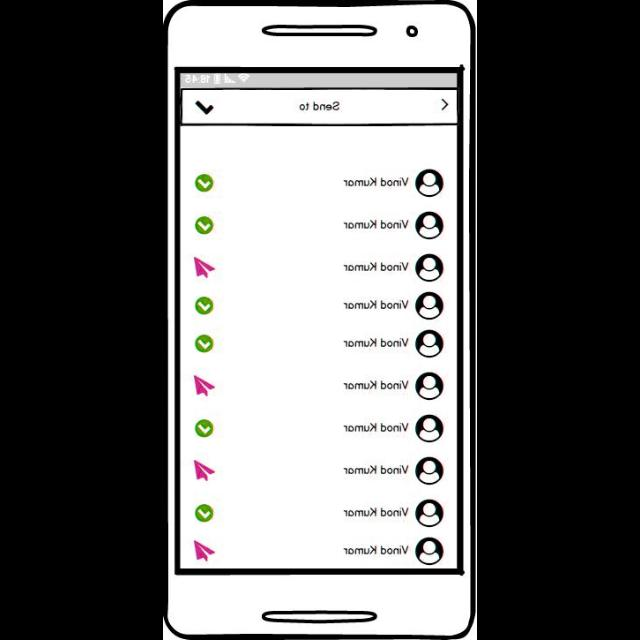icon: (414, 292, 444, 321), (414, 170, 444, 198), (414, 212, 444, 240), (414, 254, 444, 282), (414, 372, 444, 400), (414, 415, 444, 443), (414, 329, 442, 358), (413, 538, 442, 566), (414, 457, 442, 485), (414, 499, 442, 527), (194, 257, 216, 279), (193, 459, 215, 481), (193, 541, 214, 563), (194, 376, 216, 396), (194, 296, 213, 316), (195, 174, 213, 193), (194, 420, 213, 438), (195, 217, 213, 235), (195, 504, 213, 522), (195, 336, 213, 352), (194, 102, 213, 116), (440, 99, 448, 111)
text: (342, 220, 408, 230), (342, 262, 408, 272), (343, 300, 409, 310), (343, 338, 409, 348), (343, 380, 409, 390), (342, 464, 408, 474), (342, 507, 408, 517), (342, 423, 408, 432), (342, 178, 408, 186), (342, 546, 408, 554), (299, 102, 339, 110)
